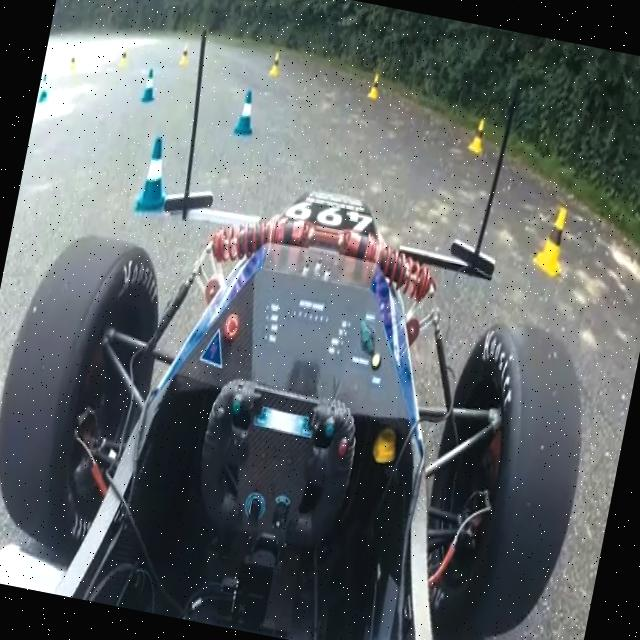blue_cone: (132, 120, 188, 220), (226, 74, 268, 148), (34, 66, 69, 118), (140, 64, 166, 108)
yellow_cone: (518, 180, 590, 306), (459, 103, 497, 169), (360, 61, 388, 112)
